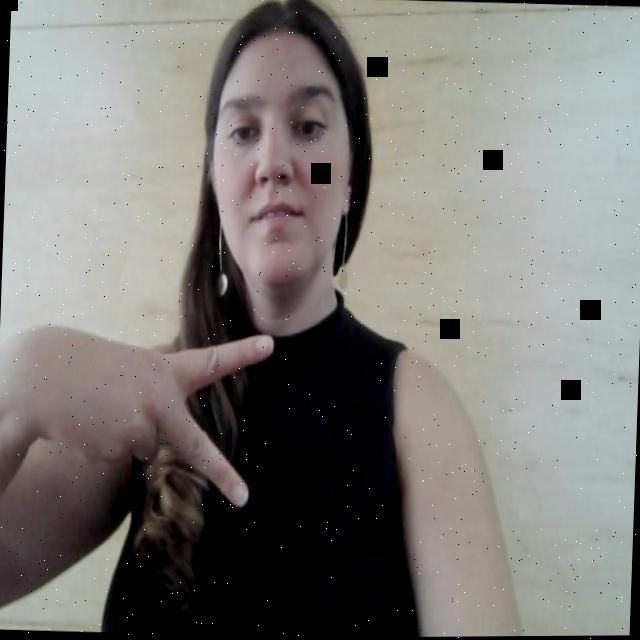Scissors: (1, 288, 301, 555)
